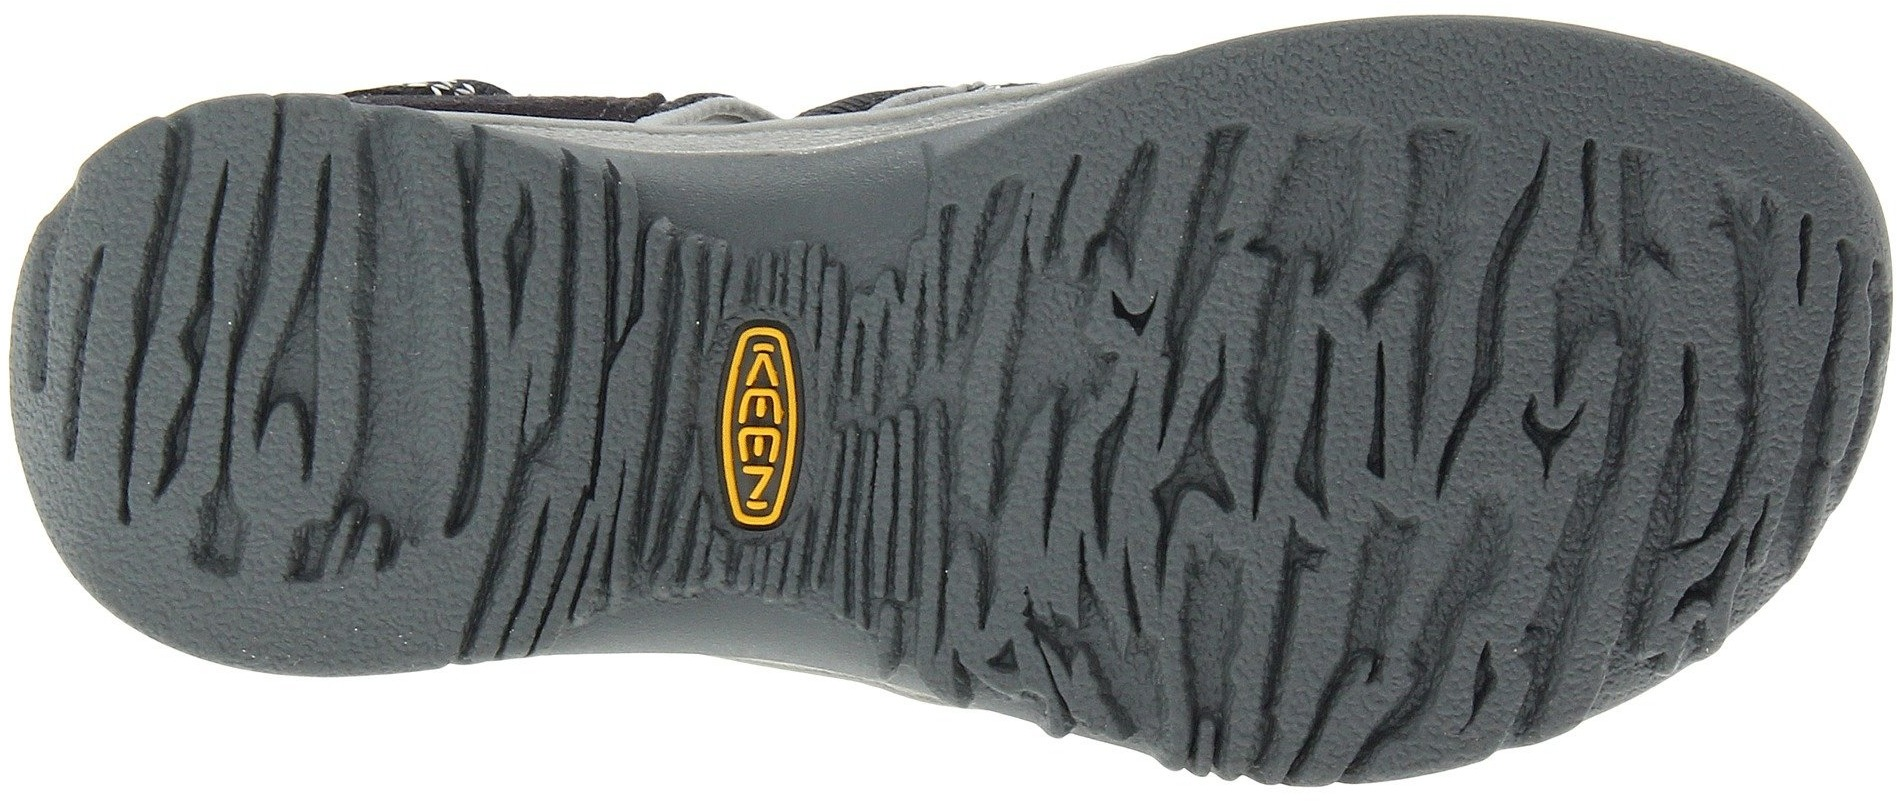line: (679, 305, 861, 561), (461, 175, 673, 380), (500, 506, 625, 662)
quad: (679, 305, 861, 561)
text: (679, 305, 861, 561)
